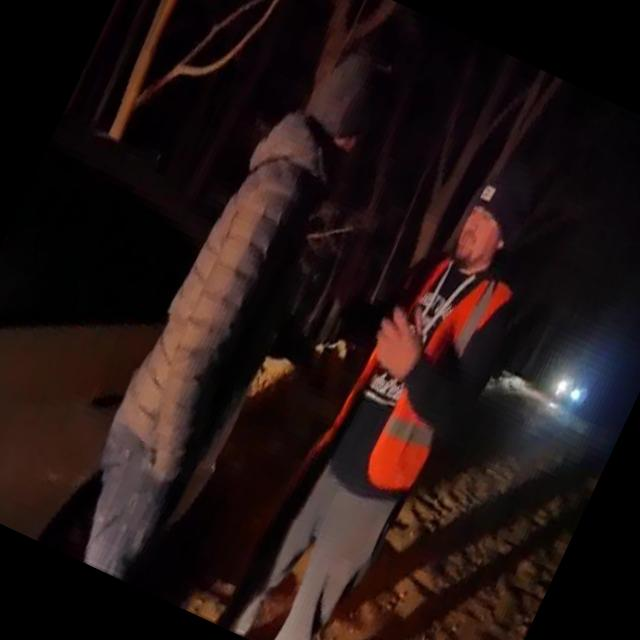safety_vest: (304, 238, 514, 508)
